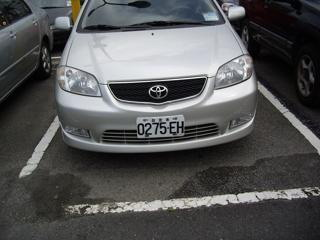plate: (134, 116, 186, 139)
